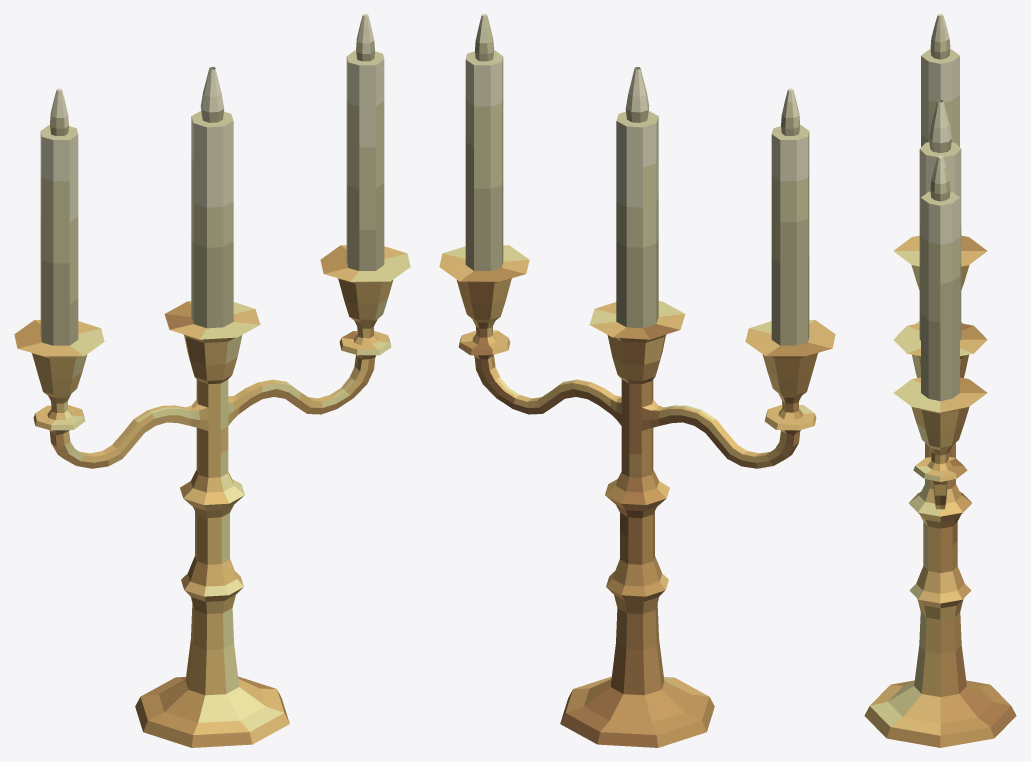
The model's file is candleB.glb.
3 views of the same model, side by side, from view 1: azimuth 30°, elevation 25°; view 2: azimuth 150°, elevation 25°; view 3: azimuth 270°, elevation 25° (orthographic). The views are drawn at different scales.
Parts seen in each view (by area): view 1: Cylinder; view 2: Cylinder; view 3: Cylinder.
Boxes of the visible parts, x1=… form: Cylinder: x1=14, y1=14, x2=410, y2=747; Cylinder: x1=439, y1=14, x2=835, y2=747; Cylinder: x1=864, y1=14, x2=1016, y2=747.
Bounding box in the file's own units: 4.01 × 6.51 × 1.43.
